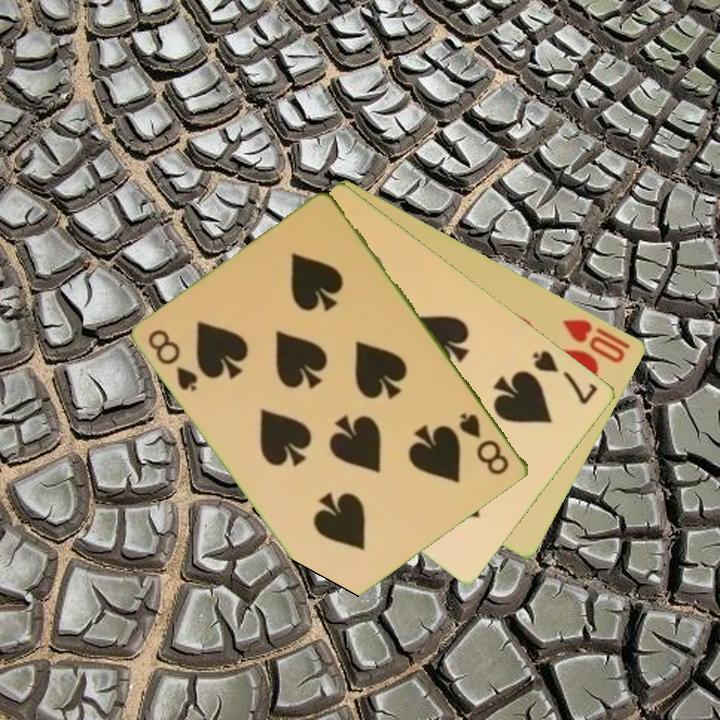10h: (559, 315, 634, 366)
7s: (529, 346, 601, 407)
8s: (145, 325, 202, 395), (456, 409, 513, 478)
